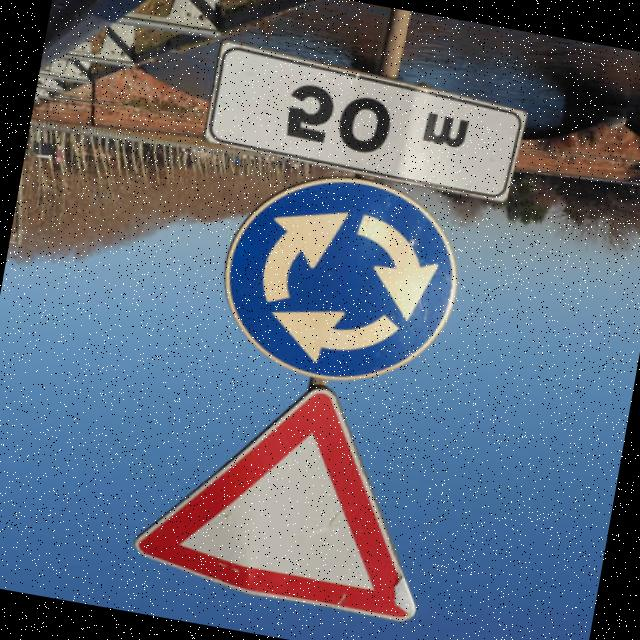give_way: (91, 355, 478, 640)
